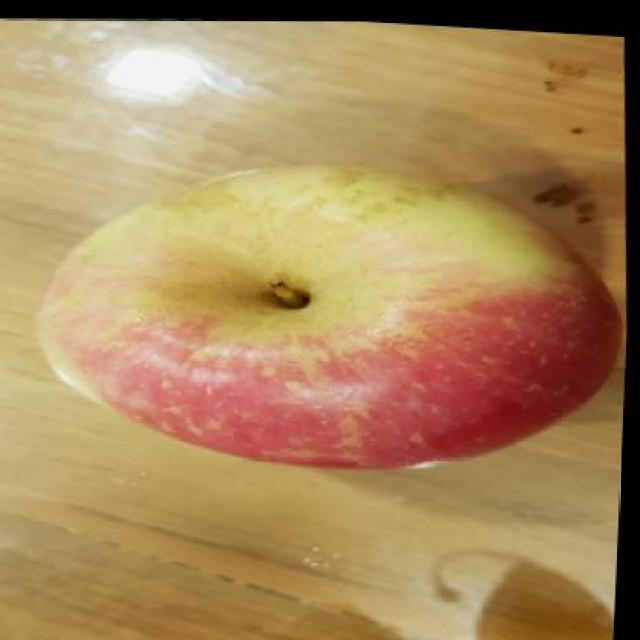Fresh Apple: (48, 181, 603, 474)
